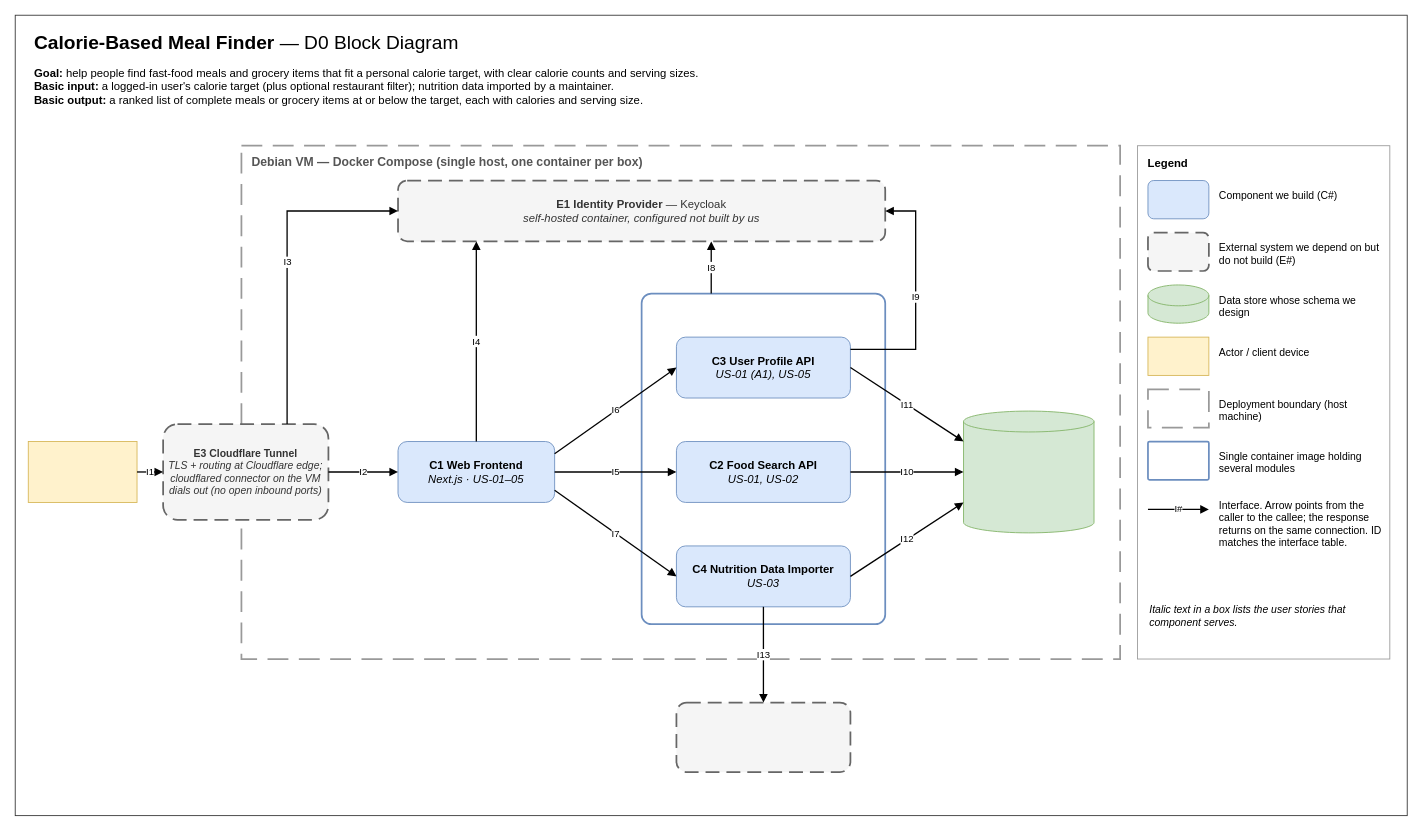
Some shapes in this 1422 by 831 pixel diagram are drawn without their labels. The shapes that lost their labels are listed below. From the top down, each one's box as (x1, y1, x2, y2) in pixels, then its label:
(27, 441, 137, 502): User's web browser (customer or maintainer)
(640, 292, 886, 625): Backend API (one Spring Boot image)
(963, 410, 1094, 533): C5 Database PostgreSQL foods, meals, profiles, import log
(675, 701, 851, 773): E2 USDA FoodData Central API public grocery nutrition data
